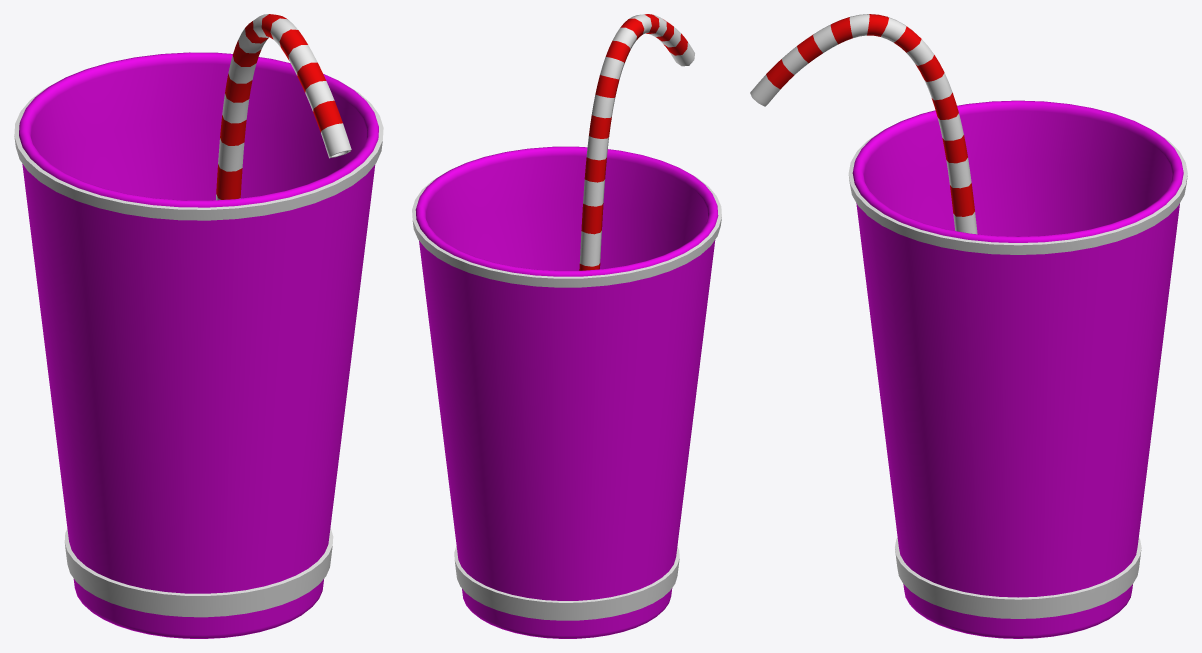
Rendered from Copo.fbx.
3 views of the same model, side by side, from view 1: azimuth 30°, elevation 25°; view 2: azimuth 150°, elevation 25°; view 3: azimuth 270°, elevation 25° (orthographic). The views are drawn at different scales.
Parts seen in each view (by area): view 1: drink; view 2: drink; view 3: drink.
Boxes of the visible parts, <box> form: drink: <box>14,14,383,638</box>; drink: <box>412,14,721,638</box>; drink: <box>750,14,1187,638</box>.
Size of the model in its own units: 1.52 by 2.85 by 1.96.
